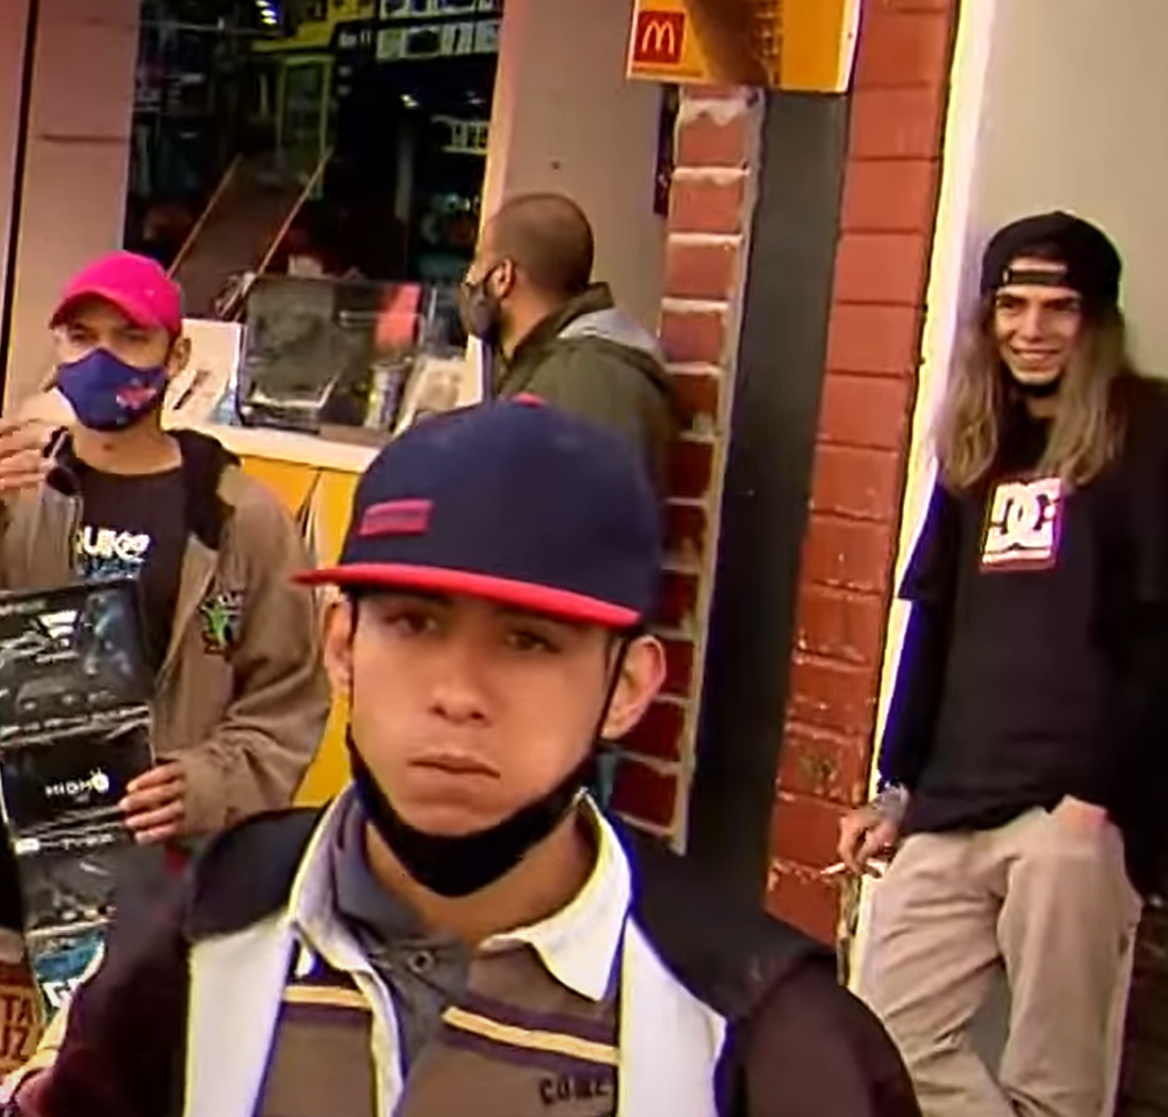mask_weared_incorrect: (295, 538, 684, 916)
with_mask: (46, 280, 196, 438)
without_mask: (982, 265, 1093, 388)
